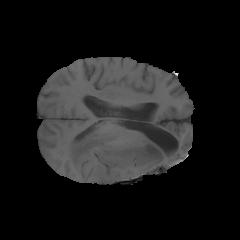glioma: (68, 123, 187, 171)
